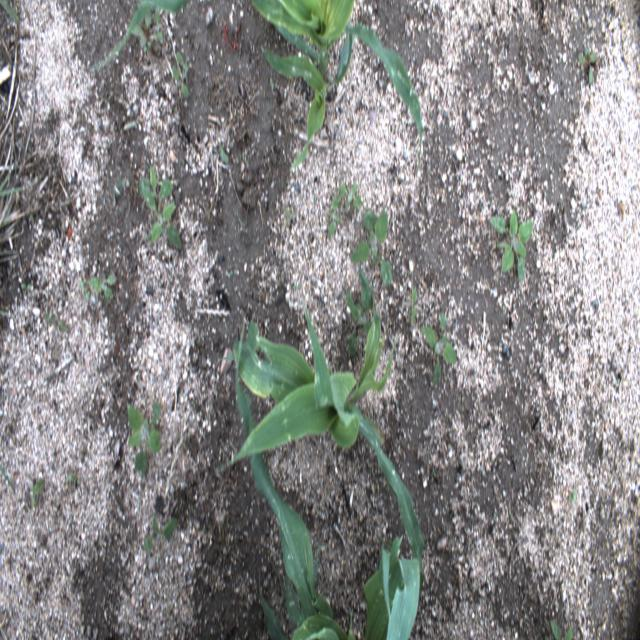crop: (231, 303, 425, 576), (240, 380, 357, 636), (254, 0, 426, 169), (363, 536, 427, 638)
weed: (2, 93, 36, 260), (131, 164, 182, 258), (346, 201, 393, 288), (487, 210, 541, 284), (423, 314, 457, 391), (128, 404, 164, 474), (349, 279, 382, 352), (126, 0, 166, 55), (324, 180, 369, 228), (144, 508, 182, 558), (79, 269, 119, 310), (576, 46, 600, 93), (26, 471, 48, 509), (172, 54, 190, 98), (44, 304, 72, 332), (407, 276, 422, 327), (548, 616, 582, 637), (568, 478, 580, 522)
